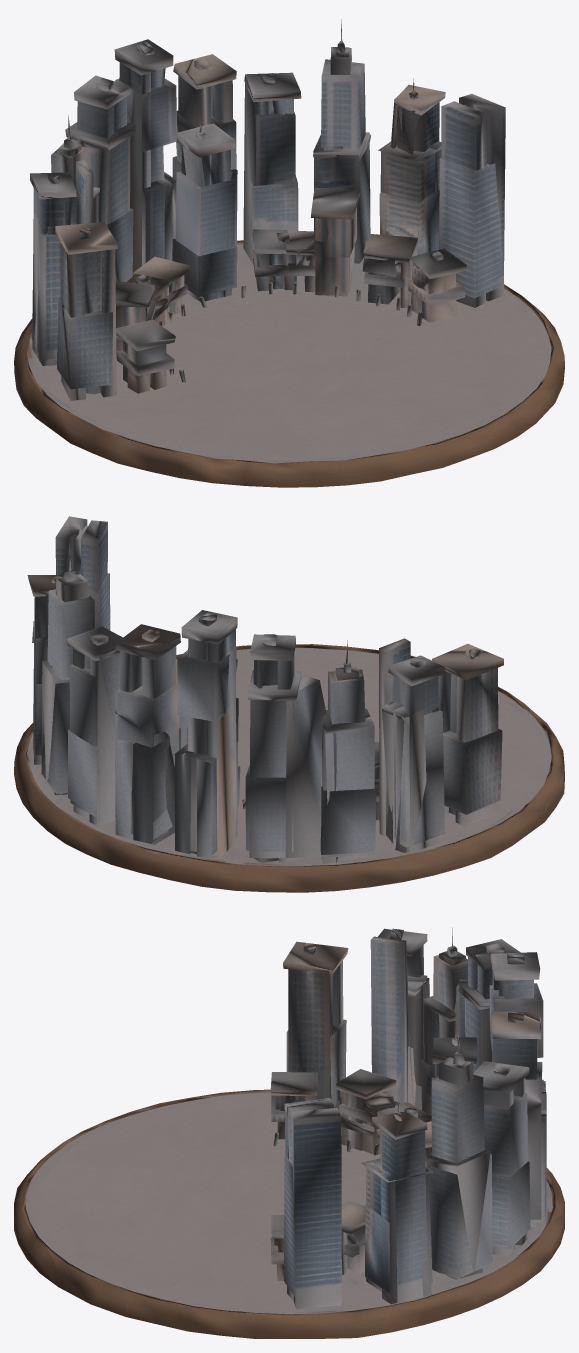
Rendered from city.glb.
3 views of the same model, one above another, from view 1: azimuth 30°, elevation 25°; view 2: azimuth 150°, elevation 25°; view 3: azimuth 270°, elevation 25° (orthographic).
Parts seen in each view (by area): view 1: mesh_node; view 2: mesh_node; view 3: mesh_node.
Boxes of the visible parts, x1,y1,x2,y2 form: mesh_node: [14, 19, 564, 487]; mesh_node: [14, 516, 564, 892]; mesh_node: [14, 927, 564, 1338].
Bounding box in the file's own units: 0.4723 × 0.25 × 0.4723.
Materials: 1 (1 with a texture image).
